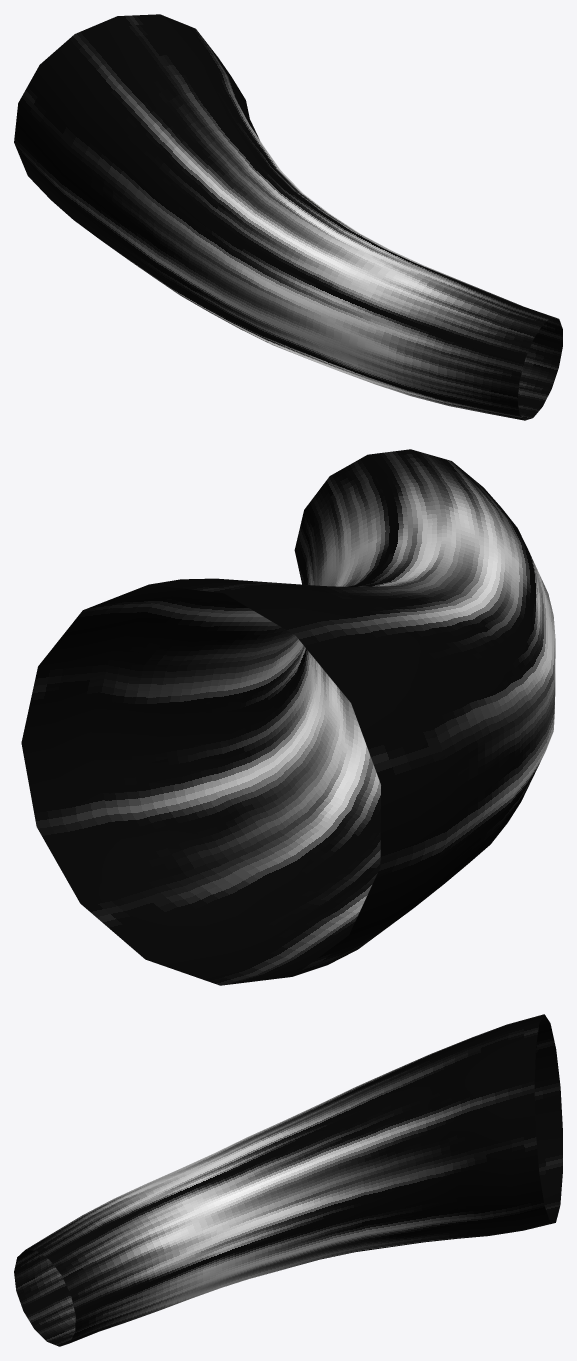
The model's file is EffKirbyHammer.obj.
3 renders of one model, top to bottom at view 1: azimuth 30°, elevation 25°; view 2: azimuth 150°, elevation 25°; view 3: azimuth 270°, elevation 25°, orthographic. The views are drawn at different scales.
Visible parts, largest first — view 1: polygon0; view 2: polygon0; view 3: polygon0.
Boxes of the visible parts, bbox=[...] form: polygon0: bbox=[14, 14, 562, 420]; polygon0: bbox=[21, 449, 555, 985]; polygon0: bbox=[14, 1014, 562, 1346].
Bounding box in the file's own units: 22.06 × 18.01 × 36.76.
Materials: 1 (1 with a texture image).
